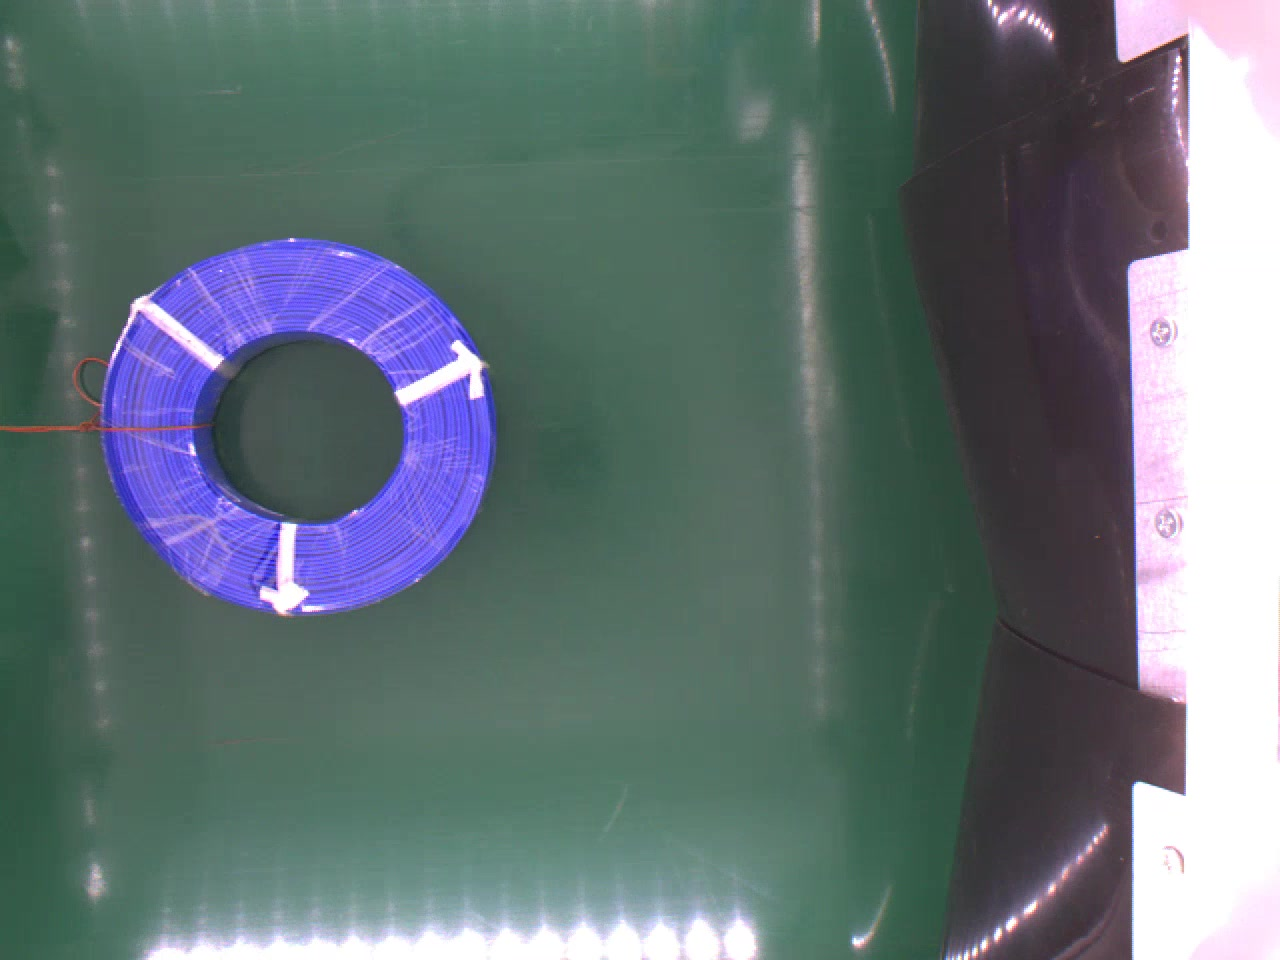blue: (101, 239, 492, 617)
